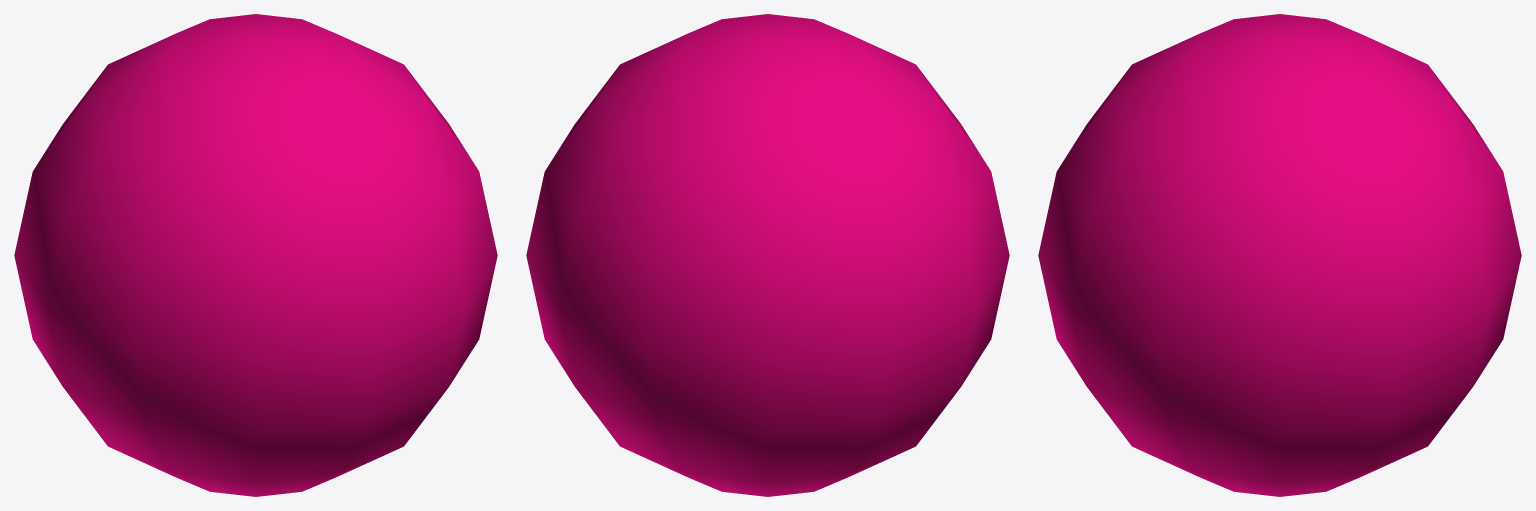
File: body.obj
The picture shows the model from 3 angles, left to right: view 1: azimuth 30°, elevation 25°; view 2: azimuth 150°, elevation 25°; view 3: azimuth 270°, elevation 25°; orthographic projection.
Visible parts, largest first — view 1: body; view 2: body; view 3: body.
Boxes of the visible parts, x1,y1,x2,y2 form: body: (14, 14, 497, 496); body: (526, 14, 1009, 496); body: (1038, 14, 1521, 496).
Bounding box in the file's own units: 0.024 × 0.024 × 0.024.
1 material, 1 textured.
